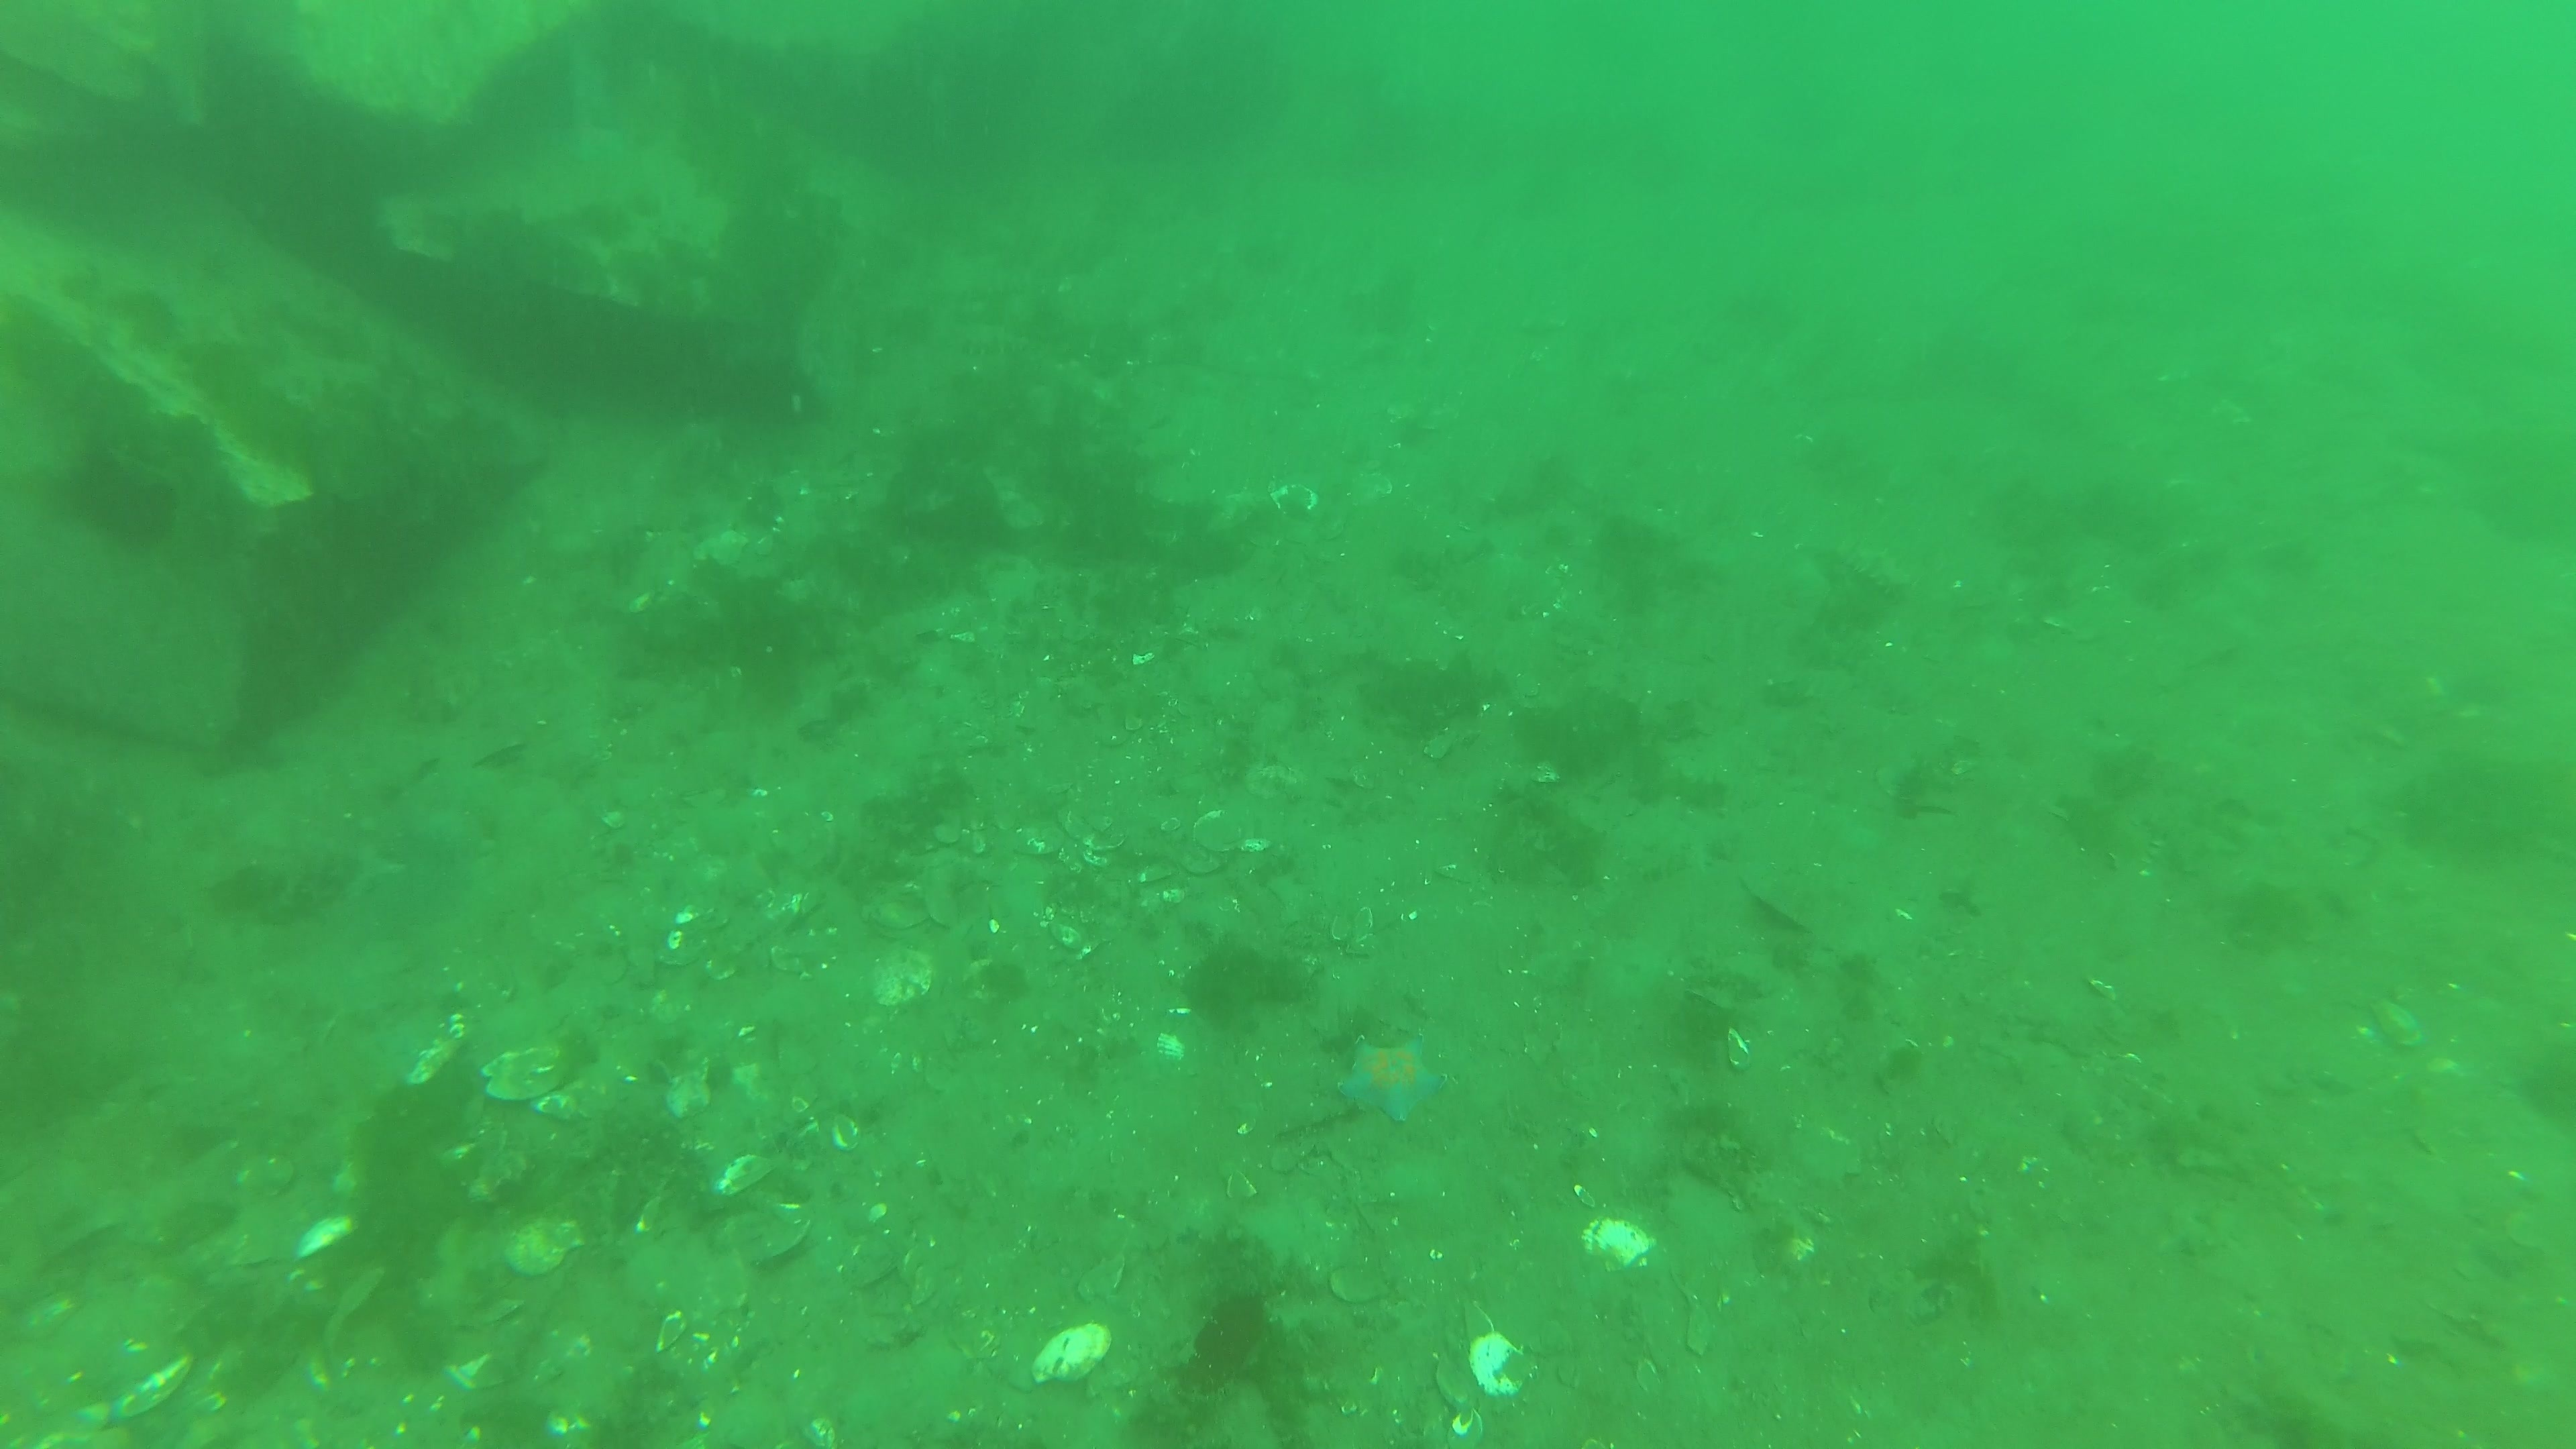starfish: (1334, 1021, 1451, 1127)
